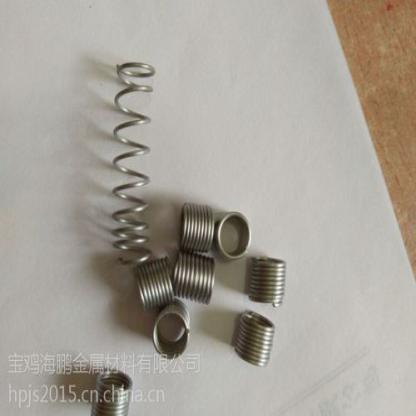FOD: (107, 60, 158, 269), (131, 251, 173, 313), (173, 248, 218, 305), (232, 311, 276, 369), (150, 302, 192, 362), (90, 364, 136, 415), (246, 256, 288, 310), (216, 206, 252, 263), (178, 199, 216, 241)
